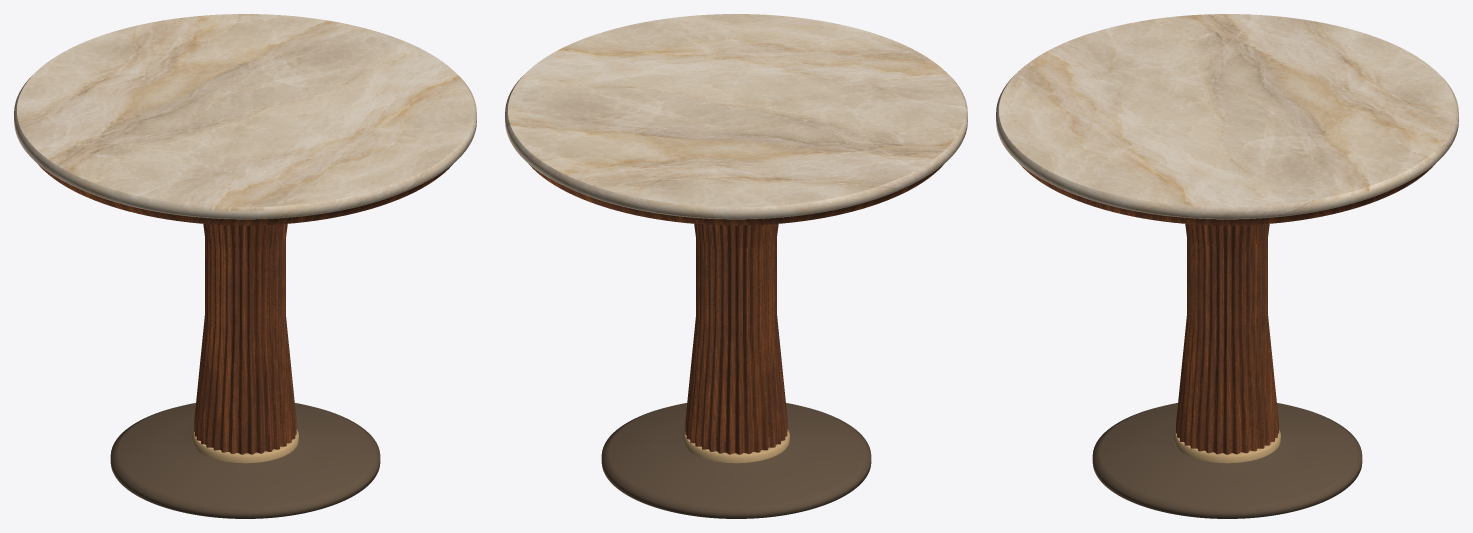
Rendered from SaloonRoundTableForTwo.glb.
3 renders of one model, left to right at view 1: azimuth 30°, elevation 25°; view 2: azimuth 150°, elevation 25°; view 3: azimuth 270°, elevation 25°, orthographic.
Parts seen in each view (by area): view 1: Honed quartzite dining surface.001, Reeded walnut pedestal.001, Weighted bronze foot.001, Walnut undercut edge.001, Lower brass collar.001; view 2: Honed quartzite dining surface.001, Reeded walnut pedestal.001, Weighted bronze foot.001, Walnut undercut edge.001, Lower brass collar.001; view 3: Honed quartzite dining surface.001, Reeded walnut pedestal.001, Weighted bronze foot.001, Walnut undercut edge.001, Lower brass collar.001.
Boxes of the visible parts, box(x1,y1,x2,y2) form: Honed quartzite dining surface.001: box(14, 14, 476, 219); Reeded walnut pedestal.001: box(194, 224, 296, 454); Weighted bronze foot.001: box(110, 403, 380, 518); Walnut undercut edge.001: box(38, 164, 452, 225); Lower brass collar.001: box(192, 429, 298, 463); Honed quartzite dining surface.001: box(505, 14, 967, 219); Reeded walnut pedestal.001: box(685, 224, 787, 454); Weighted bronze foot.001: box(601, 403, 871, 518); Walnut undercut edge.001: box(529, 164, 943, 225); Lower brass collar.001: box(683, 429, 789, 463); Honed quartzite dining surface.001: box(996, 14, 1458, 219); Reeded walnut pedestal.001: box(1176, 224, 1278, 454); Weighted bronze foot.001: box(1092, 403, 1362, 518); Walnut undercut edge.001: box(1019, 163, 1435, 225); Lower brass collar.001: box(1174, 430, 1280, 463).
Size of the model in its own units: 0.9 by 0.76 by 0.9.
Materials: 4 (2 with a texture image).
